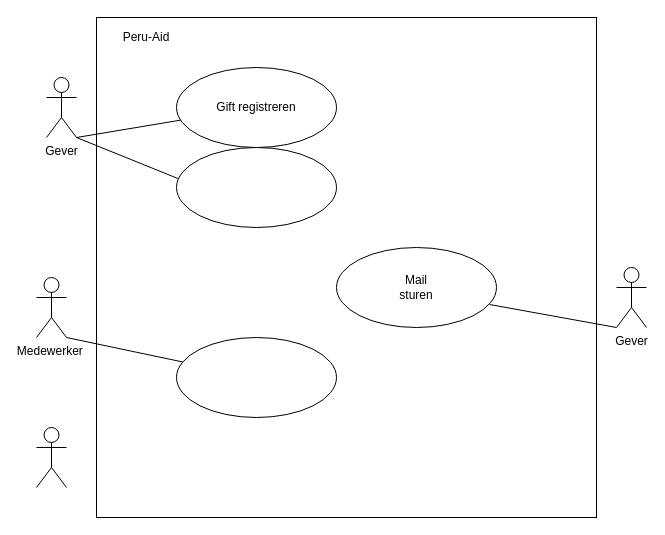
Some shapes in this 665 by 535 pixel diagram are drawn without their labels. Each missing label, with the centre of its shape:
Papier typen: the point at 256,377
Tijd: the point at 51,457
